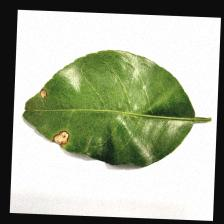canker: (27, 76, 74, 153)
